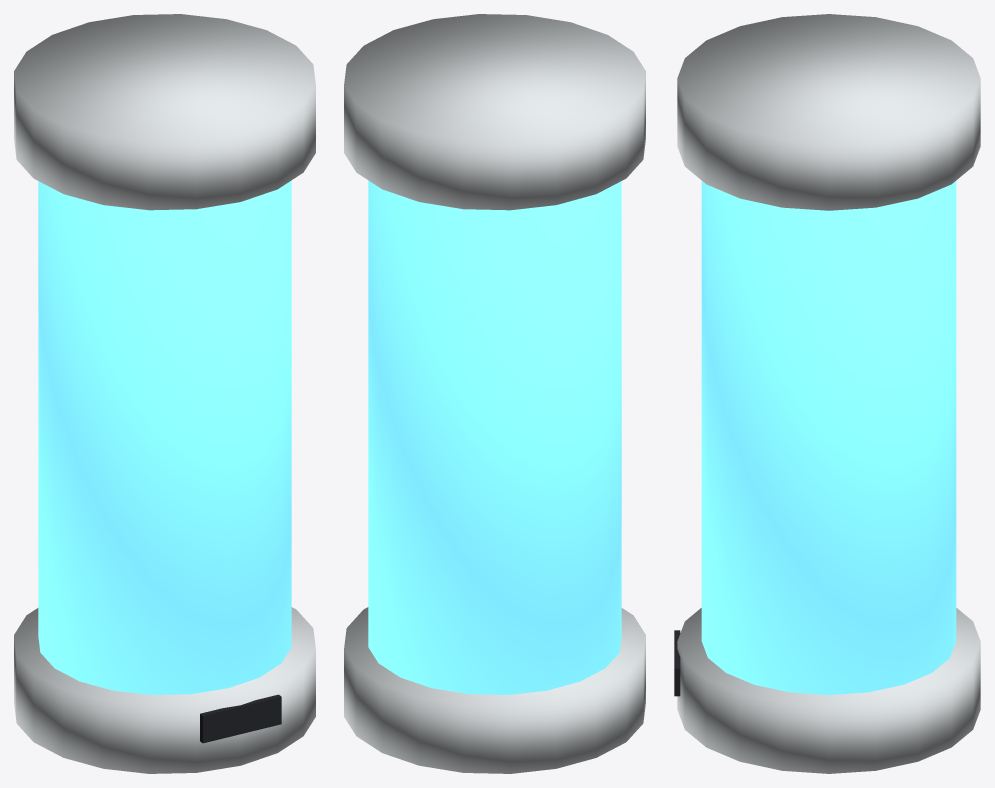
File: cryo_pod.gltf
3 views of the same model, side by side, from view 1: azimuth 30°, elevation 25°; view 2: azimuth 150°, elevation 25°; view 3: azimuth 270°, elevation 25° (orthographic).
Parts seen in each view (by area): view 1: cryo_pod_mesh; view 2: cryo_pod_mesh; view 3: cryo_pod_mesh.
Boxes of the visible parts, x1=… form: cryo_pod_mesh: x1=14, y1=14, x2=315, y2=773; cryo_pod_mesh: x1=344, y1=14, x2=645, y2=773; cryo_pod_mesh: x1=674, y1=14, x2=980, y2=773.
Size of the model in its own units: 1 by 2.3 by 1.01.
